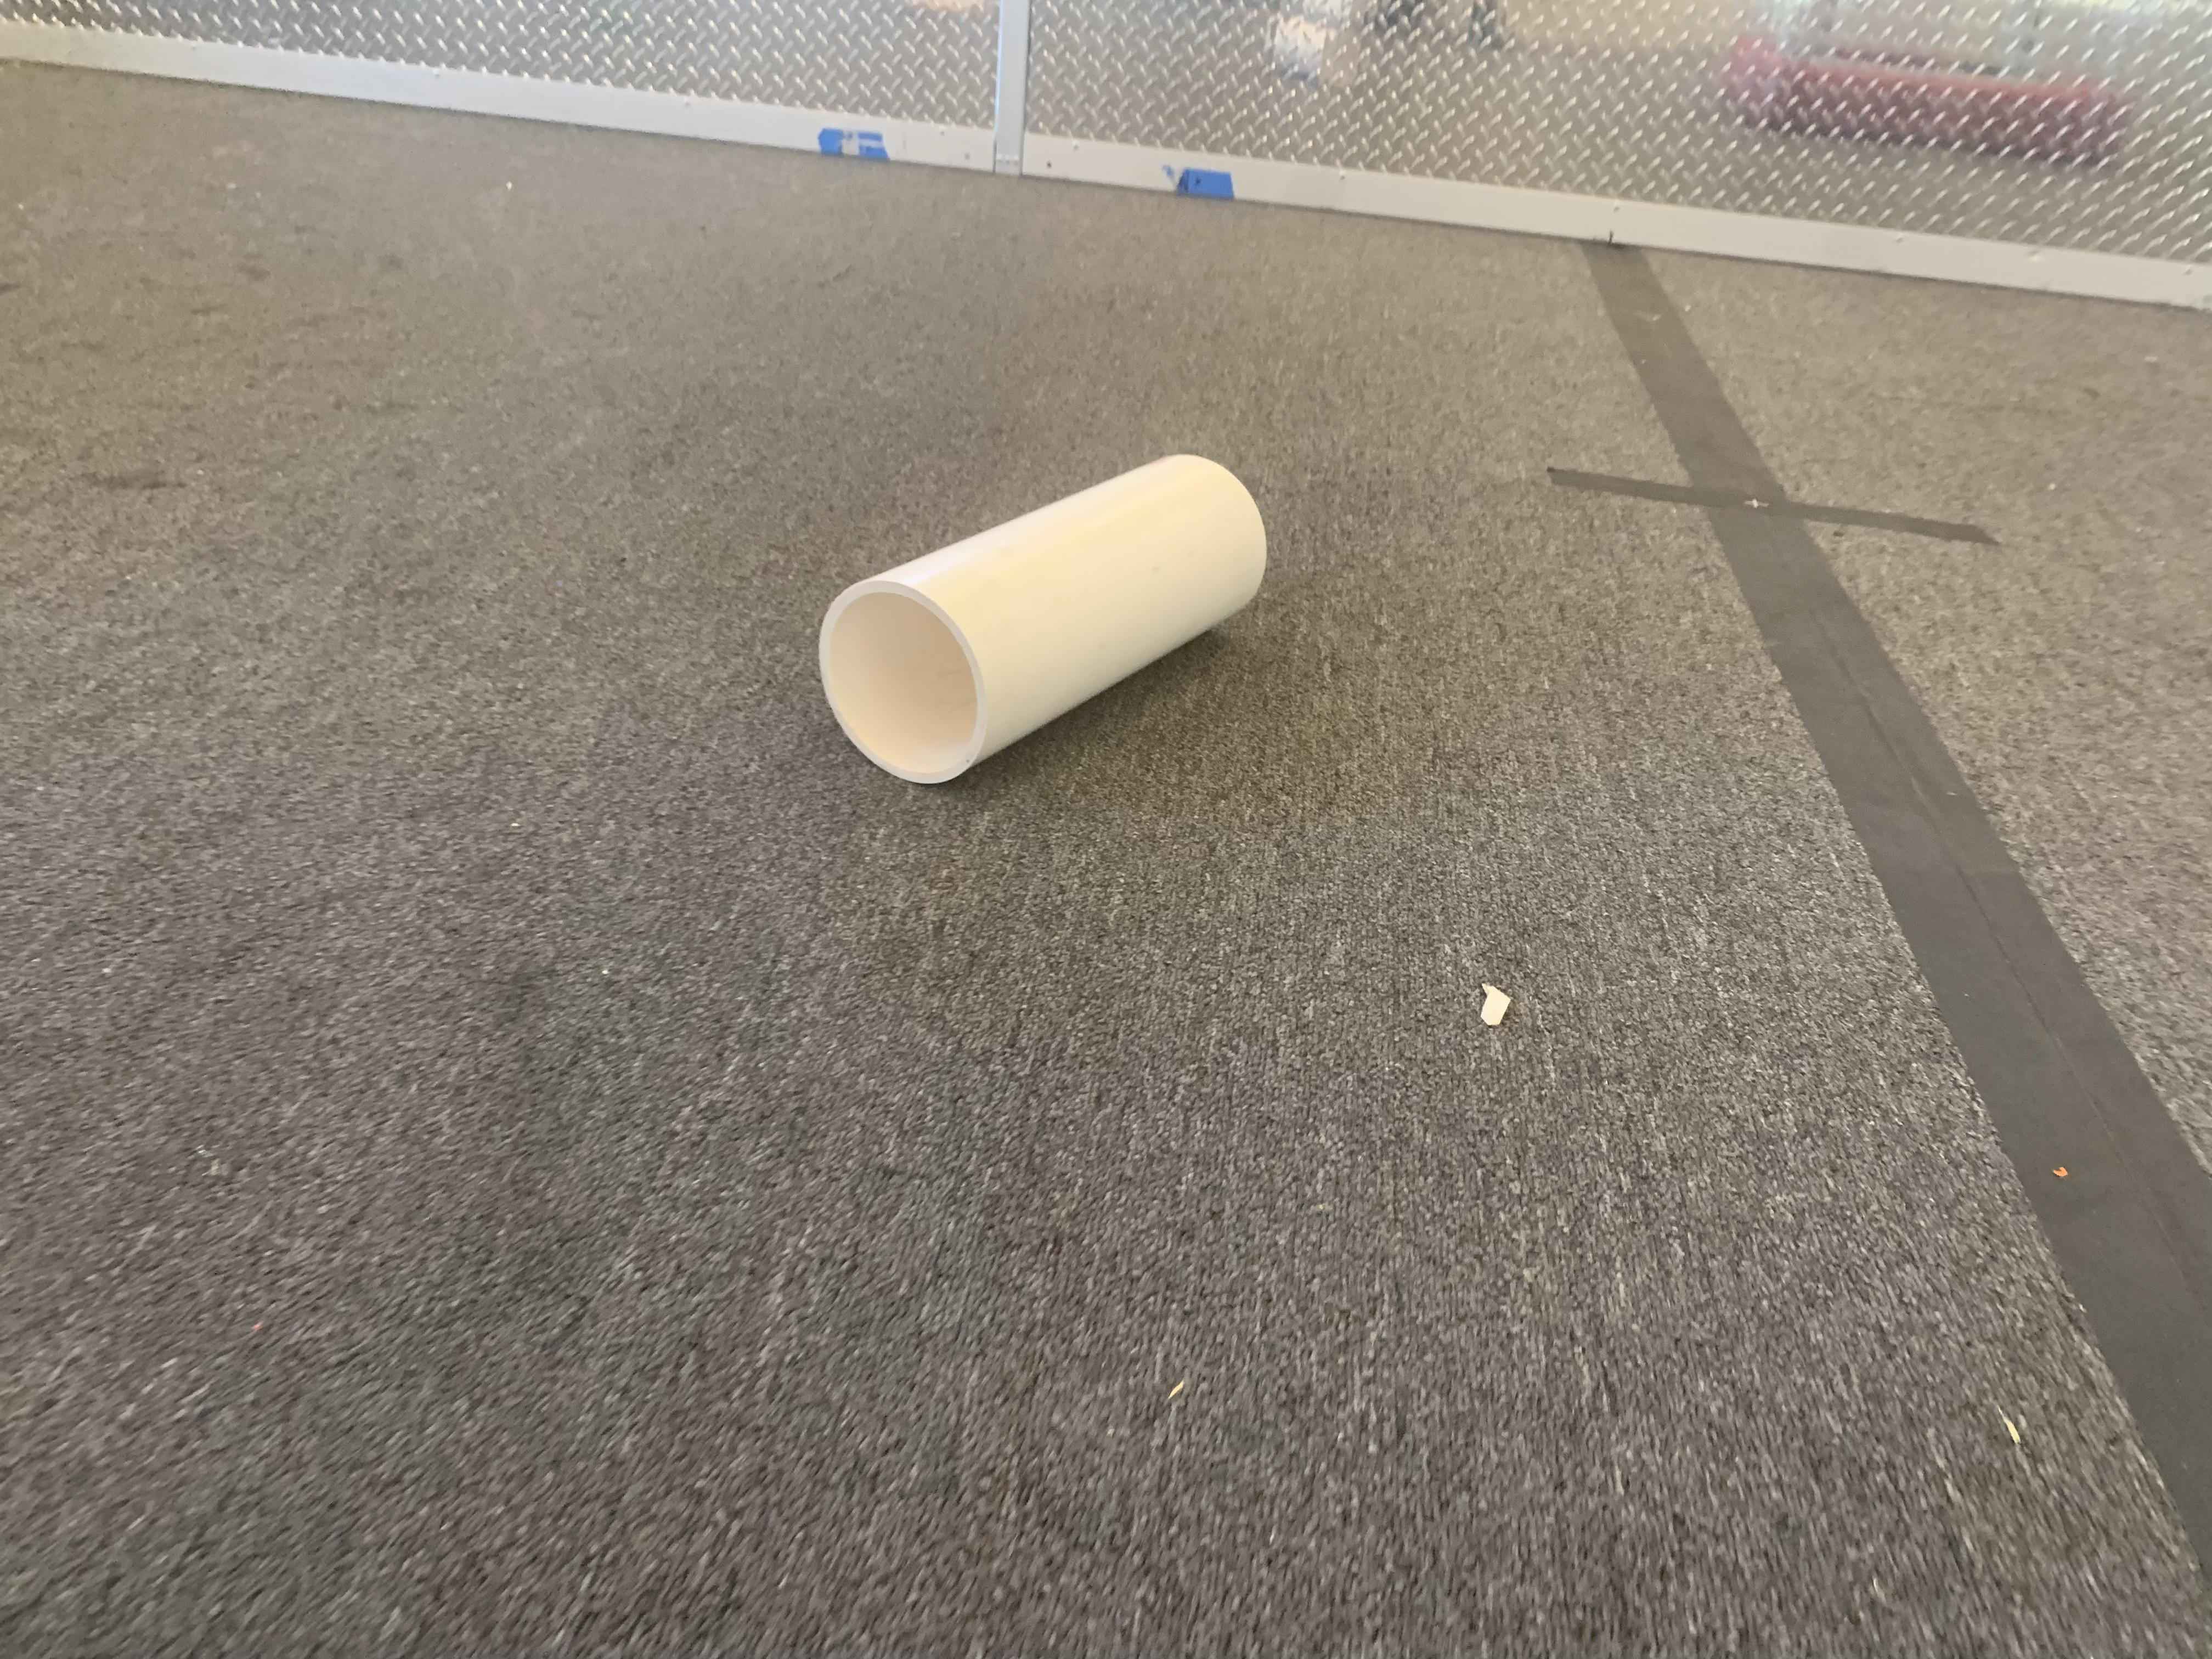coral: (813, 448, 1270, 788)
